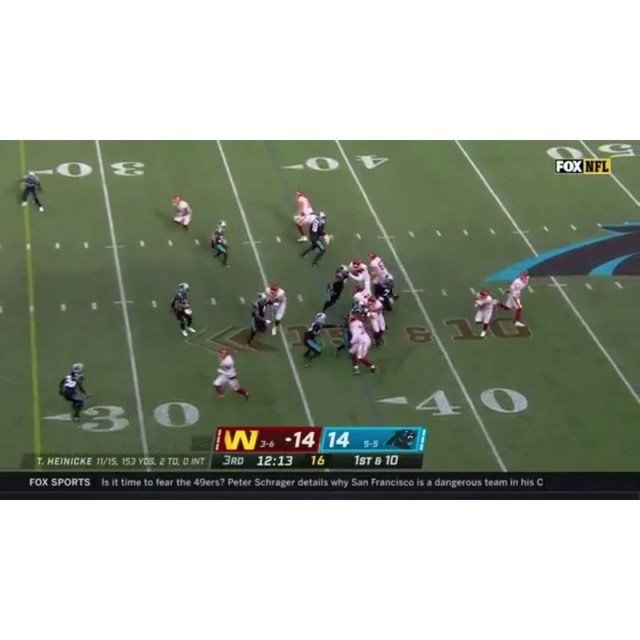american-football-player: (213, 348, 252, 403), (345, 313, 377, 376), (471, 285, 508, 339), (59, 363, 90, 423), (502, 270, 532, 329), (301, 210, 331, 267), (322, 262, 352, 312), (367, 252, 397, 302), (245, 293, 272, 348), (301, 312, 329, 365), (170, 282, 196, 338), (266, 283, 287, 336), (210, 220, 231, 268), (347, 259, 373, 296), (171, 195, 192, 232)
